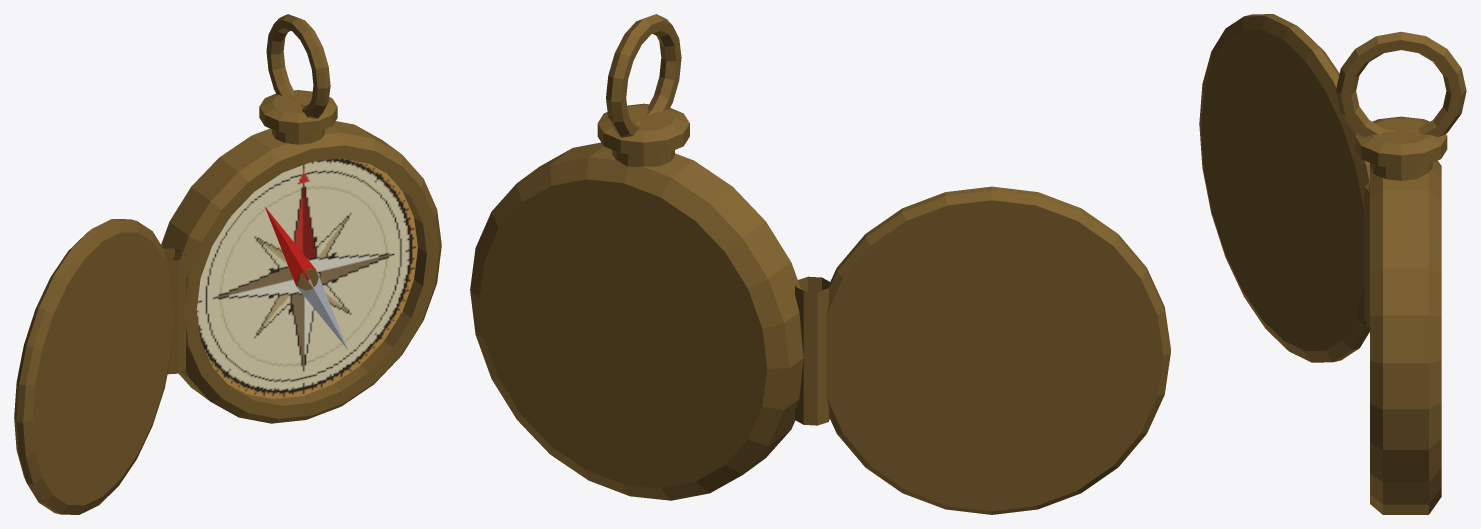
File: compass.obj
The picture shows the model from 3 angles, left to right: view 1: azimuth 30°, elevation 25°; view 2: azimuth 150°, elevation 25°; view 3: azimuth 270°, elevation 25°; orthographic projection. The views are drawn at different scales.
Visible parts, largest first — view 1: A_Dial.001_compass_dial, A_Lid.001_compass_brass, A_Case.001_compass_brass, A_Bow.001_compass_brass, A_Crown.001_compass_brass, A_Hinge.001_compass_brass, A_NeedleN.001_needle_red, A_NeedleS.001_needle_steel; view 2: A_Case.001_compass_brass, A_Lid.001_compass_brass, A_Bow.001_compass_brass, A_Hinge.001_compass_brass, A_Crown.001_compass_brass; view 3: A_Lid.001_compass_brass, A_Case.001_compass_brass, A_Bow.001_compass_brass, A_Crown.001_compass_brass, A_Hinge.001_compass_brass.
Boxes of the visible parts, x1,y1,x2,y2 form: A_Dial.001_compass_dial: (196, 158, 417, 399); A_Lid.001_compass_brass: (14, 219, 173, 514); A_Case.001_compass_brass: (161, 121, 441, 423); A_Bow.001_compass_brass: (266, 14, 330, 118); A_Crown.001_compass_brass: (259, 90, 337, 144); A_Hinge.001_compass_brass: (164, 248, 185, 374); A_NeedleN.001_needle_red: (264, 206, 316, 286); A_NeedleS.001_needle_steel: (296, 270, 347, 349); A_Case.001_compass_brass: (470, 142, 803, 500); A_Lid.001_compass_brass: (826, 186, 1170, 514); A_Bow.001_compass_brass: (606, 14, 681, 137); A_Hinge.001_compass_brass: (795, 276, 829, 425); A_Crown.001_compass_brass: (597, 103, 689, 166); A_Lid.001_compass_brass: (1199, 14, 1369, 362); A_Case.001_compass_brass: (1370, 160, 1441, 514); A_Bow.001_compass_brass: (1336, 31, 1466, 136); A_Crown.001_compass_brass: (1355, 116, 1447, 180); A_Hinge.001_compass_brass: (1364, 182, 1369, 325).
Size of the model in its own units: 3.69 by 2.79 by 1.45.
